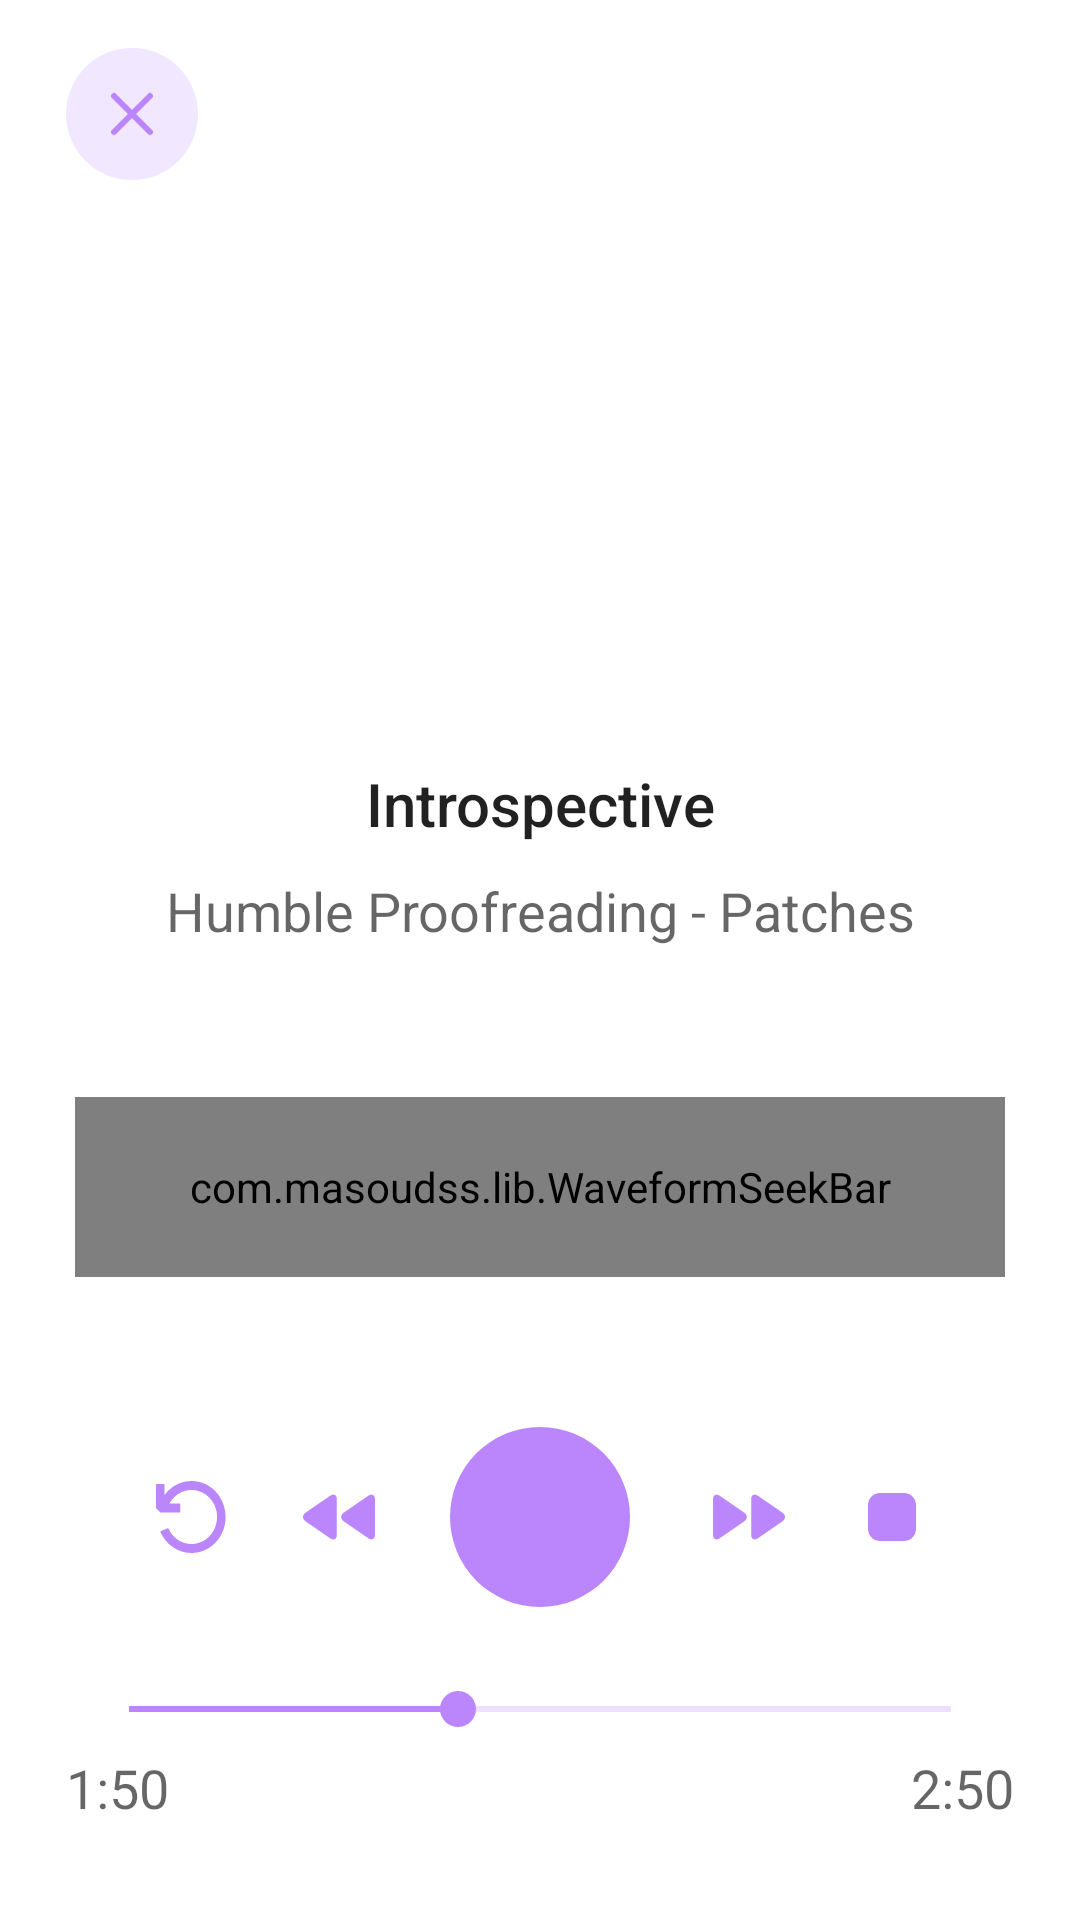

Point at icon controls on the screen. Image size 1080 x 1920, points as [x,y].
close within circle: [132,114]
fast backward media: [339,1517]
fast forward media: [749,1517]
restart media: [191,1517]
stop media: [892,1517]
